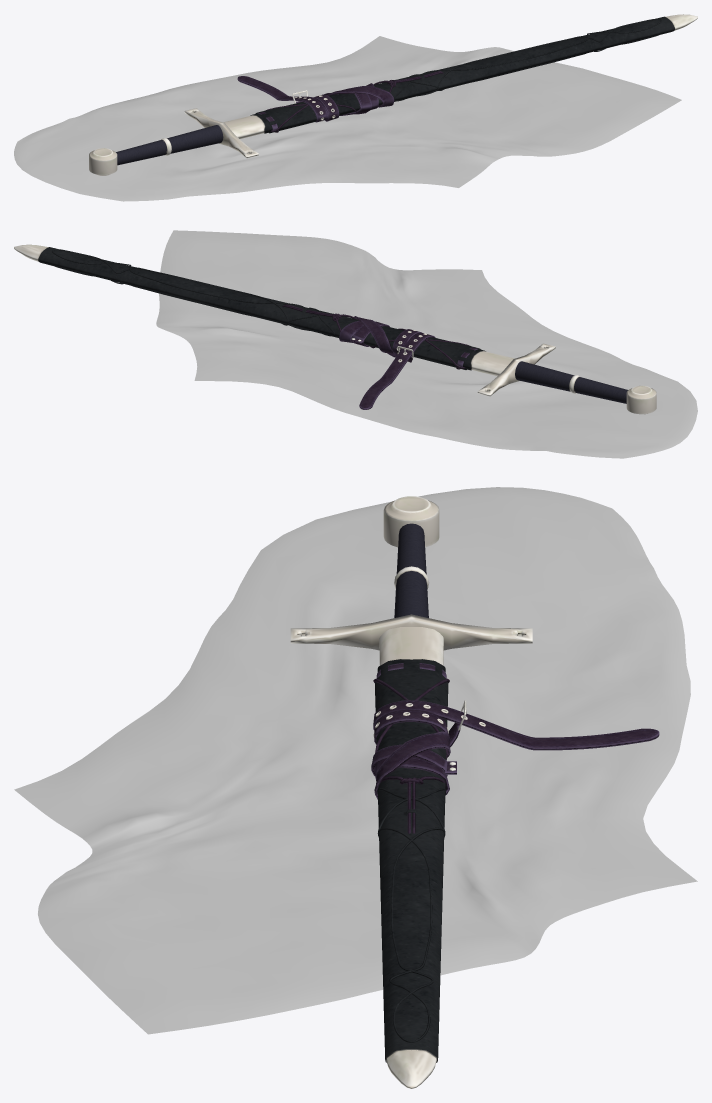
File: sword_in_scabbard.fbx
3 views of the same model, one above another, from view 1: azimuth 30°, elevation 25°; view 2: azimuth 150°, elevation 25°; view 3: azimuth 270°, elevation 25° (orthographic). The views are drawn at different scales.
Visible parts, largest first — view 1: Cloth_low.002, Scabbard_low, Belt_low, Hilt_low, Deco_low, Guard_low, Pommel_low, Deco2_low; view 2: Cloth_low.002, Scabbard_low, Belt_low, Hilt_low, Deco_low, Guard_low, Pommel_low; view 3: Cloth_low.002, Scabbard_low, Belt_low, Guard_low, Hilt_low, Pommel_low, Deco_low.
Part boxes in pixels (box(x1,y1,x2,y2)): Cloth_low.002: box(14, 36, 681, 201); Scabbard_low: box(223, 14, 697, 138); Belt_low: box(237, 76, 394, 122); Hilt_low: box(116, 125, 223, 165); Deco_low: box(394, 18, 661, 101); Guard_low: box(184, 108, 258, 158); Pommel_low: box(89, 148, 117, 175); Deco2_low: box(265, 80, 396, 132); Cloth_low.002: box(156, 230, 697, 458); Scabbard_low: box(14, 244, 514, 376); Belt_low: box(339, 316, 435, 409); Hilt_low: box(515, 361, 627, 403); Deco_low: box(52, 249, 346, 336); Guard_low: box(477, 343, 555, 396); Pommel_low: box(626, 385, 656, 414); Cloth_low.002: box(14, 487, 697, 1034); Scabbard_low: box(375, 627, 448, 1088); Belt_low: box(371, 700, 659, 799); Guard_low: box(290, 614, 532, 650); Hilt_low: box(394, 523, 429, 617); Pommel_low: box(383, 496, 439, 547); Deco_low: box(377, 788, 445, 1042).
Size of the model in its own units: 1213 by 43.19 by 565.
